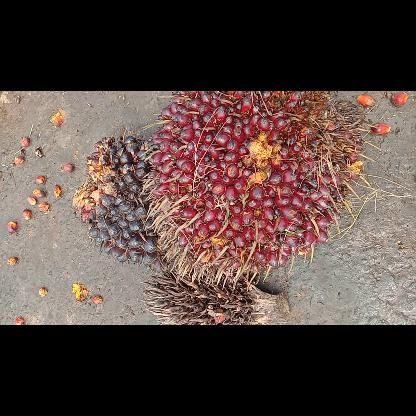Janjang kosong: (140, 266, 288, 324)
TBS masak: (140, 91, 378, 289)
TBS mentah: (72, 127, 174, 271)
